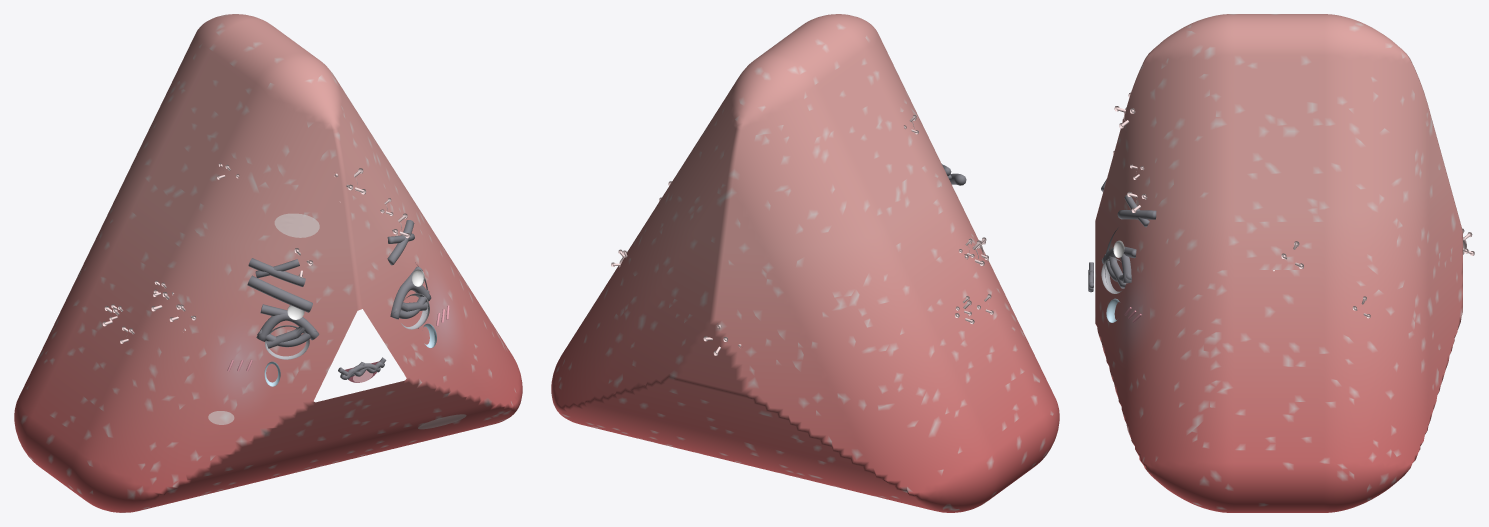
File: v_triangle_slime.glb
3 renders of one model, left to right at view 1: azimuth 30°, elevation 25°; view 2: azimuth 150°, elevation 25°; view 3: azimuth 270°, elevation 25°, orthographic.
Parts seen in each view (by area): view 1: BodyMesh, face_eyes_happy, face_eyes_normal, face_brows_angry, face_eyes_strain, face_brow_smug, face_eyes_closed; view 2: BodyMesh; view 3: BodyMesh, face_eyes_normal.
Boxes of the visible parts, <box> form: BodyMesh: <box>14,14,522,512</box>; face_eyes_happy: <box>256,282,431,341</box>; face_eyes_normal: <box>265,262,429,359</box>; face_brows_angry: <box>248,220,414,286</box>; face_eyes_strain: <box>260,266,427,348</box>; face_brow_smug: <box>247,275,312,312</box>; face_eyes_closed: <box>257,290,429,347</box>; BodyMesh: <box>551,14,1059,512</box>; BodyMesh: <box>1095,14,1474,512</box>; face_eyes_normal: <box>1101,227,1124,293</box>.
Size of the model in its own units: 2.16 by 1.92 by 1.67.
